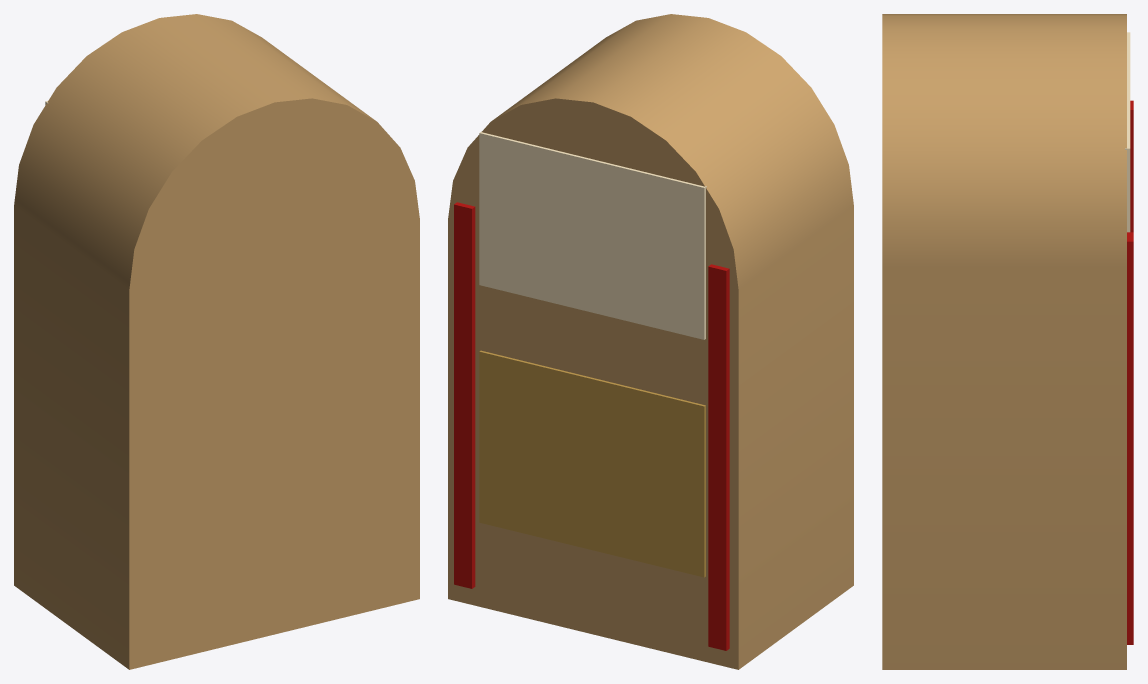
File: hospitality.pub.jukebox.glb
3 views of the same model, side by side, from view 1: azimuth 30°, elevation 25°; view 2: azimuth 150°, elevation 25°; view 3: azimuth 270°, elevation 25° (orthographic). The views are drawn at different scales.
Parts seen in each view (by area): view 1: main__glulam; view 2: main__glulam, main__brass, main__glow, main__plastic_red; view 3: main__glulam, main__plastic_red, main__glow.
Part boxes in pixels (x1,y1,x2,y2): main__glulam: (14, 14, 419, 669); main__glulam: (448, 14, 853, 669); main__brass: (479, 350, 705, 577); main__glow: (479, 131, 706, 339); main__plastic_red: (454, 202, 729, 650); main__glulam: (882, 14, 1126, 669); main__plastic_red: (1127, 100, 1133, 644); main__glow: (1125, 32, 1130, 232).
Bounding box in the file's own units: 0.8 × 1.4 × 0.565.
